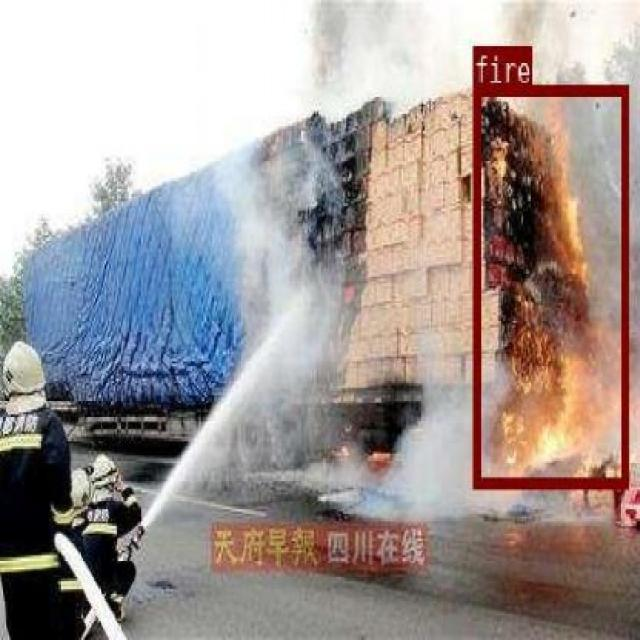Fire: (156, 286, 549, 403)
